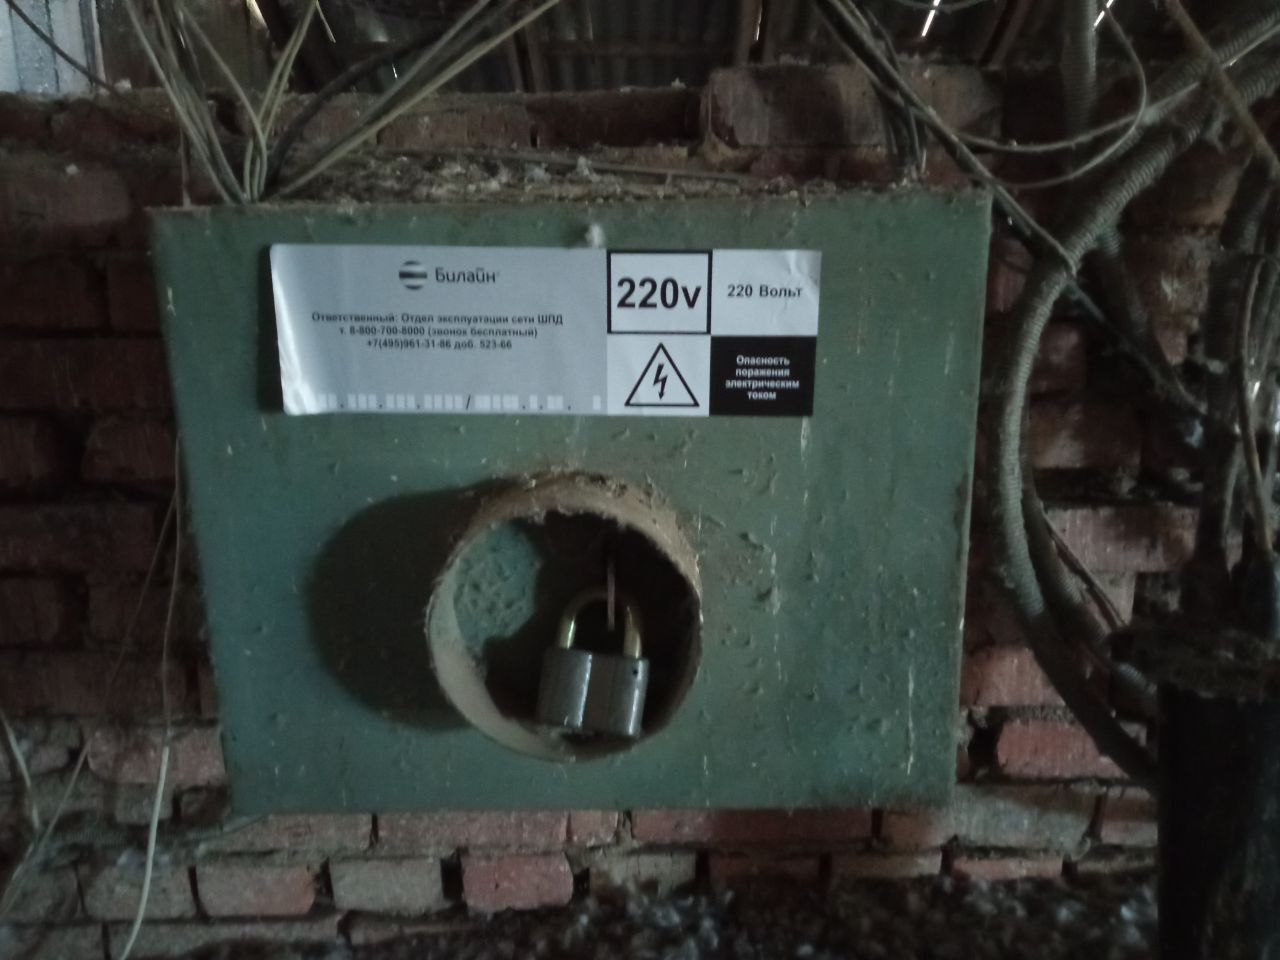shta-3: (143, 187, 993, 817)
